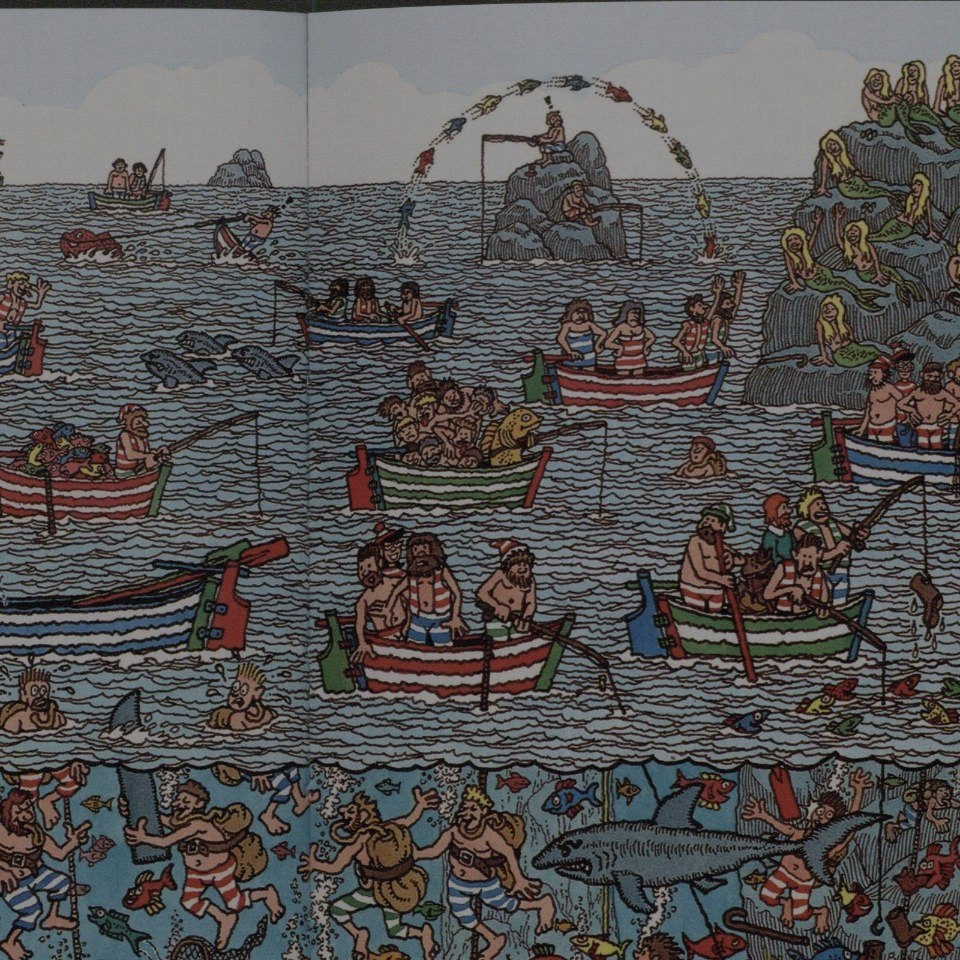waldo: (892, 343, 917, 377)
